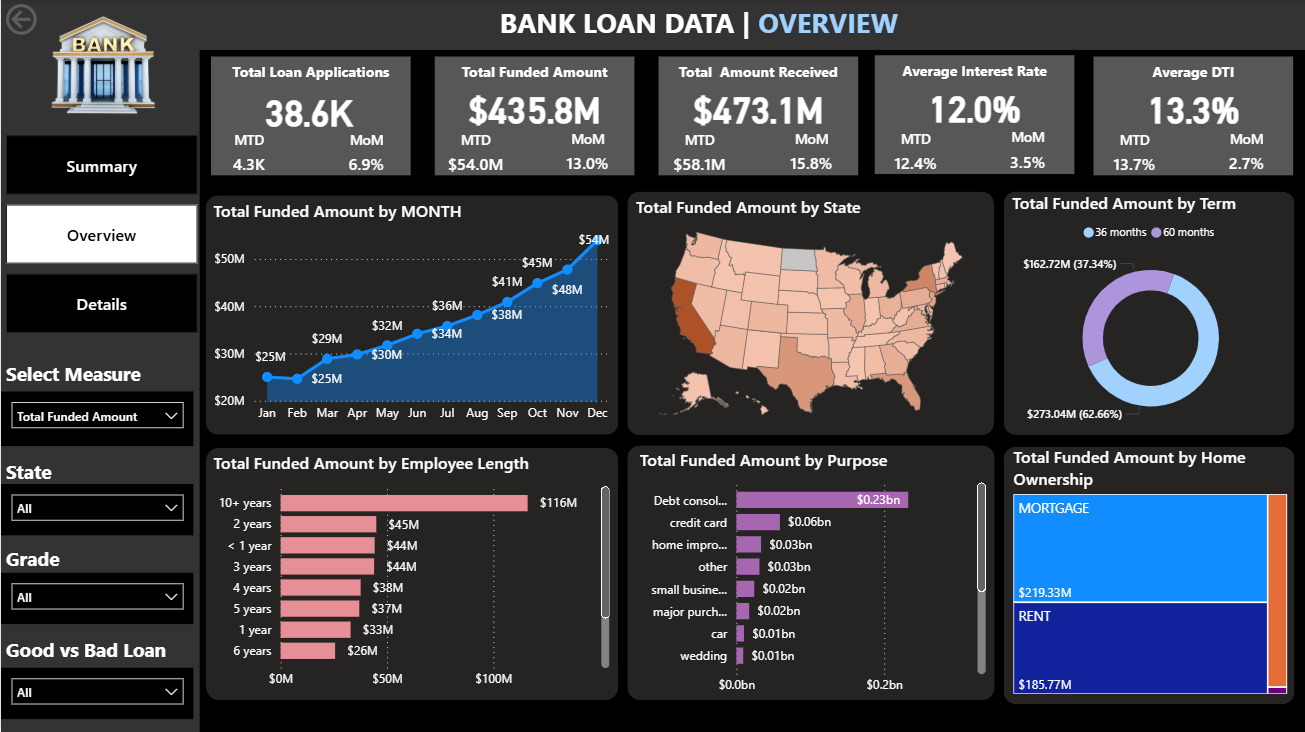

The page's visual inventory and layout, read from the dashboard file:
{"tool":"powerbi","page":{"name":"Overview","canvas":[1280,720],"ordinal":1},"visuals":[{"type":"shape","box":[0,49.1,195,671.2],"z":0},{"type":"shape","box":[0,0,1280,50],"z":1000},{"type":"textbox","box":[484.4,0,408.9,46.7],"z":2000},{"type":"shape","box":[858.2,55.2,196.2,116.6],"z":3000,"group":"g6"},{"type":"group","id":"g1","title":"Group 1","box":[202.5,56.4,200,126.4],"z":3000},{"type":"shape","box":[205.7,56.4,196.2,116.6],"z":3000,"group":"g7"},{"type":"shape","box":[425.8,56.4,196.2,116.6],"z":3000,"group":"g8"},{"type":"shape","box":[645.4,56.4,196.2,116.6],"z":3000,"group":"g9"},{"type":"shape","box":[1072.4,56.4,196.2,116.6],"z":3000,"group":"g10"},{"type":"shape","box":[201.2,192.6,405,235],"z":3000,"group":"g12"},{"type":"card","fields":{"Values":["Bank_Loan_Data.Avg Interest Rate"]},"box":[858.2,55.2,196.2,100.2],"z":4000,"group":"g6"},{"type":"group","id":"g2","title":"Group 1","box":[425.8,56.4,196.3,126.4],"z":4000},{"type":"card","fields":{"Values":["Bank_Loan_Data.Total Funded Amount"]},"box":[425.8,56.4,196.2,100.2],"z":4000,"group":"g8"},{"type":"card","fields":{"Values":["Bank_Loan_Data.Total Amount Recieved"]},"box":[645.4,56.4,196.2,100.2],"z":4000,"group":"g9"},{"type":"card","fields":{"Values":["Bank_Loan_Data.AVG DTI"]},"box":[1072.4,56.4,196.2,100.2],"z":4000,"group":"g10"},{"type":"card","fields":{"Values":["Bank_Loan_Data.Total Loan Applications"]},"box":[202.5,84.1,200,49.1],"z":4000,"group":"g7"},{"type":"textbox","box":[858.2,55.2,196.2,35.7],"z":5000,"group":"g6"},{"type":"textbox","box":[205.7,56.4,196.2,35.7],"z":5000,"group":"g7"},{"type":"textbox","box":[425.8,56.4,196.2,35.7],"z":5000,"group":"g8"},{"type":"group","id":"g3","title":"Group 1","box":[645.4,56.4,196.3,126.4],"z":5000},{"type":"textbox","box":[645.4,56.4,196.2,35.7],"z":5000,"group":"g9"},{"type":"textbox","box":[1072.4,56.4,196.2,35.7],"z":5000,"group":"g10"},{"type":"group","id":"g4","title":"Group 1","box":[858.2,55.2,196.3,125.2],"z":6000},{"type":"card","title":"MTD","fields":{"Values":["Bank_Loan_Data.MTD Avg Interest Rate"]},"box":[864.8,127.4,68.6,53.5],"z":6000,"group":"g6"},{"type":"card","title":"MTD","fields":{"Values":["Bank_Loan_Data.MTD Funded Amount"]},"box":[432.4,128.6,68.6,53.5],"z":6000,"group":"g8"},{"type":"card","title":"MTD","fields":{"Values":["Bank_Loan_Data.MTD Total Amount Received"]},"box":[652,128.6,68.6,53.5],"z":6000,"group":"g9"},{"type":"card","title":"MTD","fields":{"Values":["Bank_Loan_Data.MTD Avg DTI"]},"box":[1079,128.6,68.6,53.5],"z":6000,"group":"g10"},{"type":"card","title":"MTD","fields":{"Values":["Bank_Loan_Data.MTD Loan Applications"]},"box":[215.3,129.1,57.6,53.5],"z":6000,"group":"g7"},{"type":"actionButton","box":[0,0,100,40],"z":7000},{"type":"card","title":"MoM","fields":{"Values":["Bank_Loan_Data.MoM Avg Interest Rate"]},"box":[980.2,126,57.6,53.5],"z":7000,"group":"g6"},{"type":"card","title":"MoM","fields":{"Values":["Bank_Loan_Data.MoM Total Funded Amount"]},"box":[547.8,127.2,57.6,53.5],"z":7000,"group":"g8"},{"type":"card","title":"MoM","fields":{"Values":["Bank_Loan_Data.MoM Total Amount Recieved"]},"box":[767.4,127.2,57.6,53.5],"z":7000,"group":"g9"},{"type":"card","title":"MoM","fields":{"Values":["Bank_Loan_Data.MoM AVG DTI"]},"box":[1194.4,127.2,57.6,53.5],"z":7000,"group":"g10"},{"type":"card","title":"MoM","fields":{"Values":["Bank_Loan_Data.MoM Loan Application"]},"box":[330.6,129.1,57.6,53.5],"z":7000,"group":"g7"},{"type":"group","id":"g5","title":"Group 1","box":[1072.4,56.4,195.1,126.4],"z":8000},{"type":"group","id":"g6","title":"Group 2","box":[858.2,55.2,196.3,125.2],"z":8001,"group":"g4"},{"type":"group","id":"g7","title":"Group 2","box":[202.5,56.4,200,126.2],"z":8001,"group":"g1"},{"type":"group","id":"g8","title":"Group 2","box":[425.8,56.4,196.2,125.7],"z":8001,"group":"g2"},{"type":"group","id":"g9","title":"Group 2","box":[645.4,56.4,196.2,125.7],"z":8001,"group":"g3"},{"type":"group","id":"g10","title":"Group 2","box":[1072.4,56.4,196.2,125.7],"z":8001,"group":"g5"},{"type":"slicer","fields":{"Values":["Bank_Loan_Data.address_state"]},"box":[0,475.8,189,50.3],"z":9000},{"type":"textbox","box":[0,446.4,125.2,35.6],"z":10000},{"type":"slicer","fields":{"Values":["Bank_Loan_Data.grade"]},"box":[0,562.9,189,50.3],"z":11000},{"type":"textbox","box":[0,531,125.2,35.6],"z":12000},{"type":"slicer","fields":{"Values":["Bank_Loan_Data.Good Vs Bad Loans"]},"box":[0,656.2,189,50.3],"z":13000},{"type":"textbox","box":[0,620.6,189,35.6],"z":14000},{"type":"slicer","fields":{"Values":["Select Measure.Select Measure"]},"box":[0,385,189,54],"z":15000},{"type":"areaChart","fields":{"Y":["Bank_Loan_Data.Total Funded Amount"],"Category":["DATE TABLE.MONTH"]},"box":[203.1,195.8,398.8,228.2],"z":16000,"group":"g12"},{"type":"textbox","box":[0,349.4,189,35.6],"z":16000},{"type":"group","id":"g11","title":"Group 3","box":[614.7,189,359.5,239.3],"z":17000},{"type":"shape","box":[614.7,438,360.7,250.2],"z":17000,"group":"g15"},{"type":"pageNavigator","box":[4.9,133.7,189,196.3],"z":18000},{"type":"shape","box":[614.7,189,360,239.3],"z":19000,"group":"g17"},{"type":"shape","box":[984.1,189.3,285.9,239],"z":19000,"group":"g13"},{"type":"group","id":"g12","title":"Group 4","box":[201.2,192.6,404.9,235.6],"z":19000},{"type":"barChart","fields":{"Y":["Bank_Loan_Data.Total Funded Amount"],"Category":["Bank_Loan_Data.purpose"]},"box":[622.4,440.5,349.7,251.5],"z":19000,"group":"g15"},{"type":"group","id":"g13","title":"Group 6","box":[984.1,189,285.9,239.3],"z":20000},{"type":"shapeMap","fields":{"Value":["Bank_Loan_Data.Total Funded Amount"],"Category":["Bank_Loan_Data.address_state"]},"box":[618.9,192.3,353.4,230.5],"z":20000,"group":"g17"},{"type":"shape","box":[984.1,438.9,285.9,253.1],"z":20000,"group":"g16"},{"type":"shape","box":[201.2,440.5,404.8,247.9],"z":20000,"group":"g14"},{"type":"treemap","fields":{"Values":["Bank_Loan_Data.Total Funded Amount"],"Group":["Bank_Loan_Data.home_ownership"]},"box":[988.9,438,278.5,249.4],"z":21000,"group":"g16"},{"type":"group","id":"g14","title":"Group 7","box":[201.2,440.5,404.9,247.9],"z":21000},{"type":"group","id":"g15","title":"Group 8","box":[614.7,438,360.7,254],"z":22000},{"type":"donutChart","fields":{"Y":["Bank_Loan_Data.Total Funded Amount"],"Category":["Bank_Loan_Data.term"]},"box":[987.4,189,282,239],"z":23000,"group":"g13"},{"type":"group","id":"g16","title":"Group 9","box":[984.1,438,285.9,254],"z":23000},{"type":"image","box":[9.8,6.1,179.1,122.7],"z":23001},{"type":"barChart","fields":{"Y":["Bank_Loan_Data.Total Funded Amount"],"Category":["Bank_Loan_Data.emp_length"]},"box":[204,444,398.8,241.7],"z":24000,"group":"g14"},{"type":"group","id":"g17","title":"Group 5","box":[614.7,189,360,239.3],"z":29002,"group":"g11"}]}

Visuals, with their boxes in screenshot pixels (x1, y1, x2, y2), scaled from the page's 1280x720 canvas onto the 1305x732 screenshot:
shape: <region>0, 50, 199, 731</region>
shape: <region>0, 0, 1304, 51</region>
textbox: <region>494, 0, 911, 47</region>
shape: <region>875, 56, 1075, 175</region>
"Group 1" group: <region>206, 57, 410, 186</region>
shape: <region>210, 57, 410, 176</region>
shape: <region>434, 57, 634, 176</region>
shape: <region>658, 57, 858, 176</region>
shape: <region>1093, 57, 1293, 176</region>
shape: <region>205, 196, 618, 435</region>
card - Bank_Loan_Data.Avg Interest Rate: <region>875, 56, 1075, 158</region>
"Group 1" group: <region>434, 57, 634, 186</region>
card - Bank_Loan_Data.Total Funded Amount: <region>434, 57, 634, 159</region>
card - Bank_Loan_Data.Total Amount Recieved: <region>658, 57, 858, 159</region>
card - Bank_Loan_Data.AVG DTI: <region>1093, 57, 1293, 159</region>
card - Bank_Loan_Data.Total Loan Applications: <region>206, 86, 410, 135</region>
textbox: <region>875, 56, 1075, 92</region>
textbox: <region>210, 57, 410, 94</region>
textbox: <region>434, 57, 634, 94</region>
"Group 1" group: <region>658, 57, 858, 186</region>
textbox: <region>658, 57, 858, 94</region>
textbox: <region>1093, 57, 1293, 94</region>
"Group 1" group: <region>875, 56, 1075, 183</region>
"MTD" card: <region>882, 130, 952, 184</region>
"MTD" card: <region>441, 131, 511, 185</region>
"MTD" card: <region>665, 131, 735, 185</region>
"MTD" card: <region>1100, 131, 1170, 185</region>
"MTD" card: <region>220, 131, 278, 186</region>
actionButton: <region>0, 0, 102, 41</region>
"MoM" card: <region>999, 128, 1058, 182</region>
"MoM" card: <region>558, 129, 617, 184</region>
"MoM" card: <region>782, 129, 841, 184</region>
"MoM" card: <region>1218, 129, 1276, 184</region>
"MoM" card: <region>337, 131, 396, 186</region>
"Group 1" group: <region>1093, 57, 1292, 186</region>
"Group 2" group: <region>875, 56, 1075, 183</region>
"Group 2" group: <region>206, 57, 410, 186</region>
"Group 2" group: <region>434, 57, 634, 185</region>
"Group 2" group: <region>658, 57, 858, 185</region>
"Group 2" group: <region>1093, 57, 1293, 185</region>
slicer - Bank_Loan_Data.address_state: <region>0, 484, 193, 535</region>
textbox: <region>0, 454, 128, 490</region>
slicer - Bank_Loan_Data.grade: <region>0, 572, 193, 623</region>
textbox: <region>0, 540, 128, 576</region>
slicer - Bank_Loan_Data.Good Vs Bad Loans: <region>0, 667, 193, 718</region>
textbox: <region>0, 631, 193, 667</region>
slicer - Select Measure.Select Measure: <region>0, 391, 193, 446</region>
areaChart - Bank_Loan_Data.Total Funded Amount x DATE TABLE.MONTH: <region>207, 199, 614, 431</region>
textbox: <region>0, 355, 193, 391</region>
"Group 3" group: <region>627, 192, 993, 435</region>
shape: <region>627, 445, 994, 700</region>
pageNavigator: <region>5, 136, 198, 336</region>
shape: <region>627, 192, 994, 435</region>
shape: <region>1003, 192, 1295, 435</region>
"Group 4" group: <region>205, 196, 618, 435</region>
barChart - Bank_Loan_Data.Total Funded Amount x Bank_Loan_Data.purpose: <region>635, 448, 991, 704</region>
"Group 6" group: <region>1003, 192, 1295, 435</region>
shapeMap - Bank_Loan_Data.Total Funded Amount x Bank_Loan_Data.address_state: <region>631, 196, 991, 430</region>
shape: <region>1003, 446, 1295, 704</region>
shape: <region>205, 448, 618, 700</region>
treemap - Bank_Loan_Data.Total Funded Amount x Bank_Loan_Data.home_ownership: <region>1008, 445, 1292, 699</region>
"Group 7" group: <region>205, 448, 618, 700</region>
"Group 8" group: <region>627, 445, 994, 704</region>
donutChart - Bank_Loan_Data.Total Funded Amount x Bank_Loan_Data.term: <region>1007, 192, 1294, 435</region>
"Group 9" group: <region>1003, 445, 1295, 704</region>
image: <region>10, 6, 193, 131</region>
barChart - Bank_Loan_Data.Total Funded Amount x Bank_Loan_Data.emp_length: <region>208, 451, 615, 697</region>
"Group 5" group: <region>627, 192, 994, 435</region>
